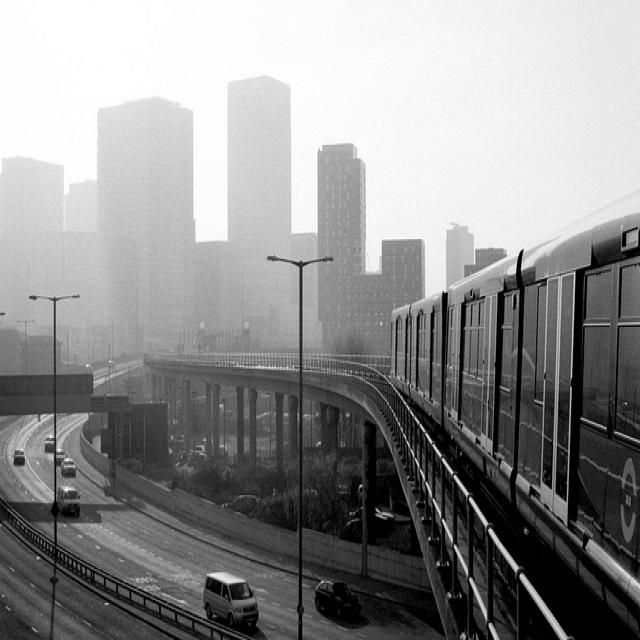Vehicle: (200, 568, 260, 630), (315, 576, 363, 622), (57, 485, 81, 518), (59, 458, 77, 477), (44, 434, 54, 452), (14, 449, 25, 465), (56, 448, 66, 464)
